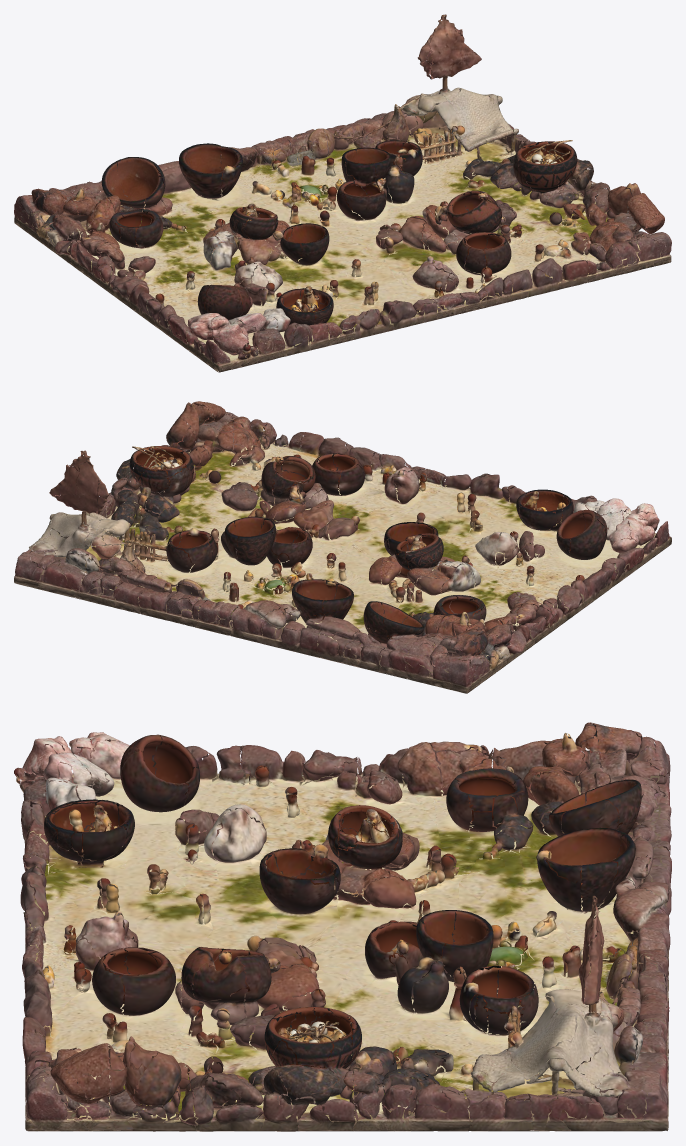
File: pot.glb
The picture shows the model from 3 angles, top to bottom: view 1: azimuth 30°, elevation 25°; view 2: azimuth 150°, elevation 25°; view 3: azimuth 270°, elevation 25°; orthographic projection. The views are drawn at different scales.
Parts seen in each view (by area): view 1: mesh; view 2: mesh; view 3: mesh.
Part boxes in pixels (x1,y1,x2,y2): mesh: [14, 14, 671, 372]; mesh: [14, 401, 671, 693]; mesh: [14, 722, 671, 1131].
Bounding box in the file's own units: 1.9 × 0.4924 × 1.47.
Materials: 1 (1 with a texture image).
